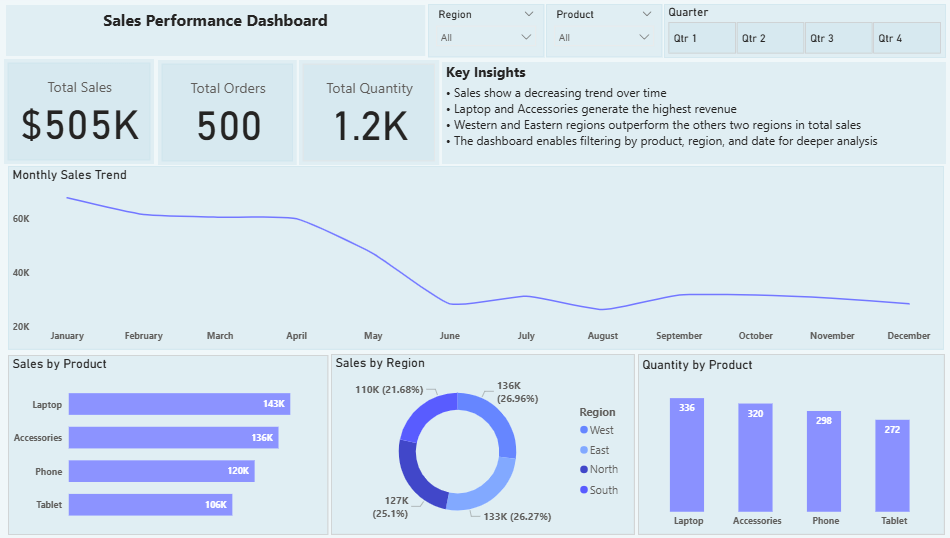

What the dashboard file says about the page in this screenshot:
{"tool":"powerbi","page":{"name":"Page 1","canvas":[1280,720],"ordinal":0},"visuals":[{"type":"textbox","box":[14.7,8,558.7,68],"z":0},{"type":"cardVisual","fields":{"Data":["Sum(sales_data.Sales)"]},"box":[12,80,200,140],"z":1},{"type":"cardVisual","fields":{"Data":["CountNonNull(sales_data.OrderID)"]},"box":[217.3,81.3,185.3,140],"z":2},{"type":"lineChart","title":"Monthly Sales Trend","fields":{"Category":["sales_data.Date.Variation.Date Hierarchy.Month"],"Y":["Sum(sales_data.Sales)"]},"box":[17.3,222.7,1248,245.3],"z":4},{"type":"clusteredBarChart","title":"Sales by Product","fields":{"Category":["sales_data.Product"],"Y":["Sum(sales_data.Sales)"]},"box":[17.3,474.7,426.7,240],"z":5},{"type":"donutChart","title":"Sales by Region","fields":{"Category":["sales_data.Region"],"Y":["Sum(sales_data.Sales)"]},"box":[448,473.3,405.3,241.3],"z":6},{"type":"lineClusteredColumnComboChart","title":"Quantity by Product","fields":{"Category":["sales_data.Product"],"Y":["Sum(sales_data.Quantity)"]},"box":[857.3,473.3,409.3,241.3],"z":7},{"type":"slicer","fields":{"Values":["sales_data.Region"]},"box":[577.3,6.7,154.7,70.7],"z":8},{"type":"slicer","fields":{"Values":["sales_data.Product"]},"box":[734.7,6.7,154.7,70.7],"z":9},{"type":"advancedSlicerVisual","fields":{"Values":["sales_data.Date.Variation.Date Hierarchy.Quarter"]},"box":[892,6.7,376,72],"z":10},{"type":"cardVisual","fields":{"Data":["Sum(sales_data.Quantity)"]},"box":[405.3,81.3,186.7,140],"z":11},{"type":"textbox","title":"Key Insights","box":[596.3,84,671.9,136.1],"z":12}]}

Visuals, with their boxes in screenshot pixels (x1, y1, x2, y2), scaled from the page's 1280x720 canvas onto the 950x538 screenshot:
textbox: detection(11, 6, 426, 57)
cardVisual - Sum(sales_data.Sales): detection(9, 60, 157, 164)
cardVisual - CountNonNull(sales_data.OrderID): detection(161, 61, 299, 165)
"Monthly Sales Trend" lineChart: detection(13, 166, 939, 350)
"Sales by Product" clusteredBarChart: detection(13, 355, 330, 534)
"Sales by Region" donutChart: detection(332, 354, 633, 534)
"Quantity by Product" lineClusteredColumnComboChart: detection(636, 354, 940, 534)
slicer - sales_data.Region: detection(428, 5, 543, 58)
slicer - sales_data.Product: detection(545, 5, 660, 58)
advancedSlicerVisual - sales_data.Date.Variation.Date Hierarchy.Quarter: detection(662, 5, 941, 59)
cardVisual - Sum(sales_data.Quantity): detection(301, 61, 439, 165)
"Key Insights" textbox: detection(443, 63, 941, 164)
